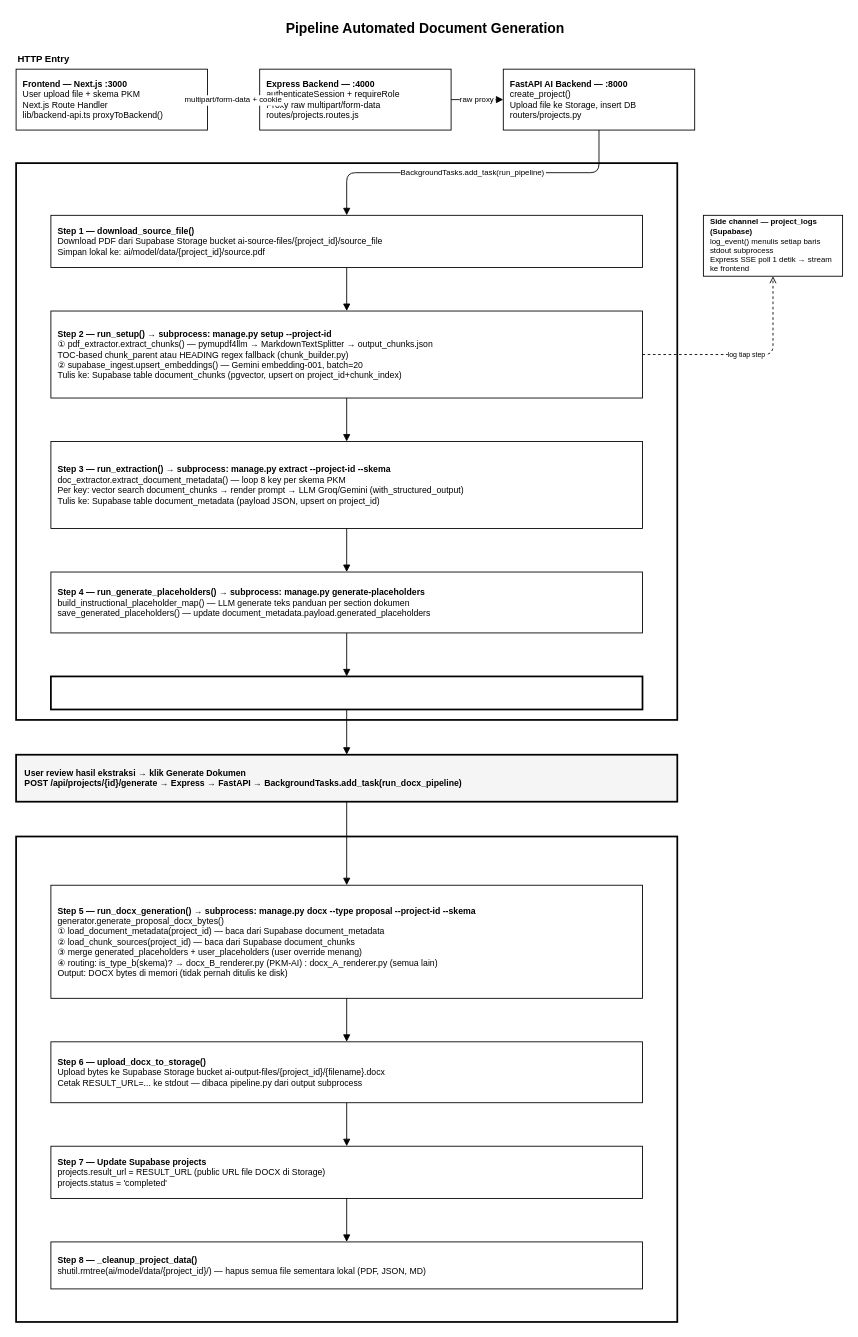
Some shapes in this 858 by 1337 pixel diagram are drawn without their labels. Here are the shapes that lost their labels. From the top down, the box of each, then its label:
(15, 162, 678, 720): FASE 1 — Extraction Pipeline (ai/backend/services/pipeline.py → run_pipeline)
(50, 675, 643, 710): projects.status = 'extracted' — Pipeline berhenti, menunggu konfirmasi user
(15, 835, 678, 1322): FASE 2 — DOCX Generation (ai/backend/services/pipeline.py → run_docx_pipeline)
